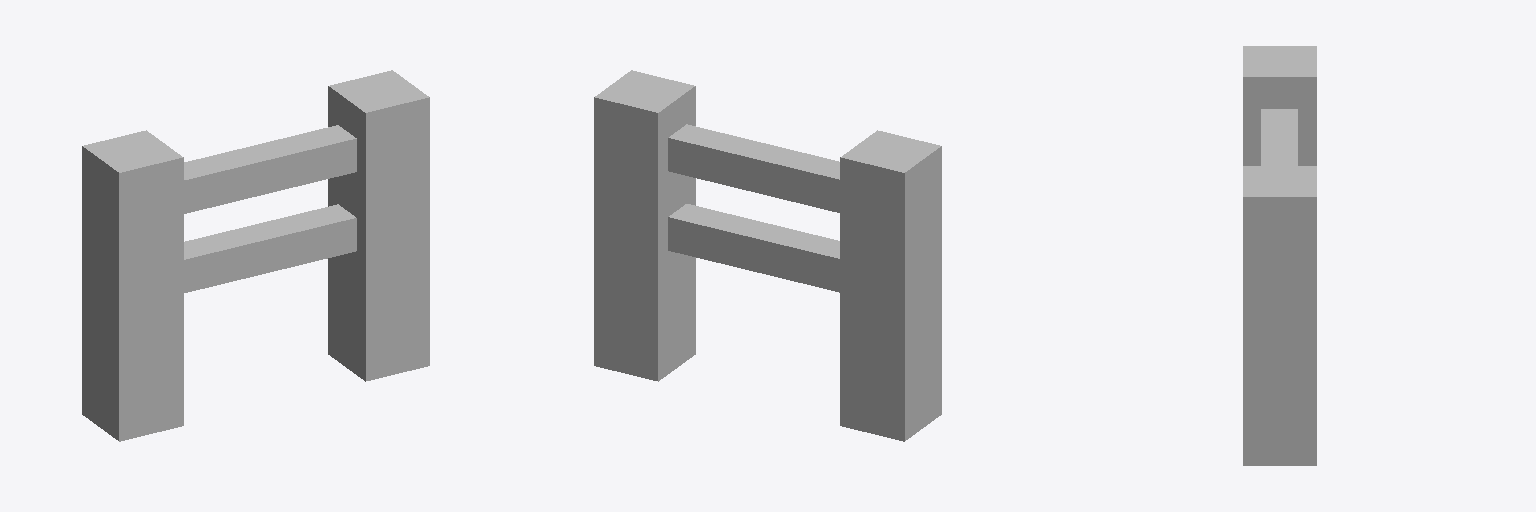
The model's file is Valla.obj.
3 renders of one model, left to right at view 1: azimuth 30°, elevation 25°; view 2: azimuth 150°, elevation 25°; view 3: azimuth 270°, elevation 25°, orthographic.
Visible parts, largest first — view 1: pasted__pCube2; view 2: pasted__pCube2; view 3: pasted__pCube2.
Boxes of the visible parts, <box> form: pasted__pCube2: <box>82,70,429,441</box>; pasted__pCube2: <box>594,70,941,441</box>; pasted__pCube2: <box>1243,46,1316,465</box>.
Size of the model in its own units: 1.21 by 1 by 0.25.